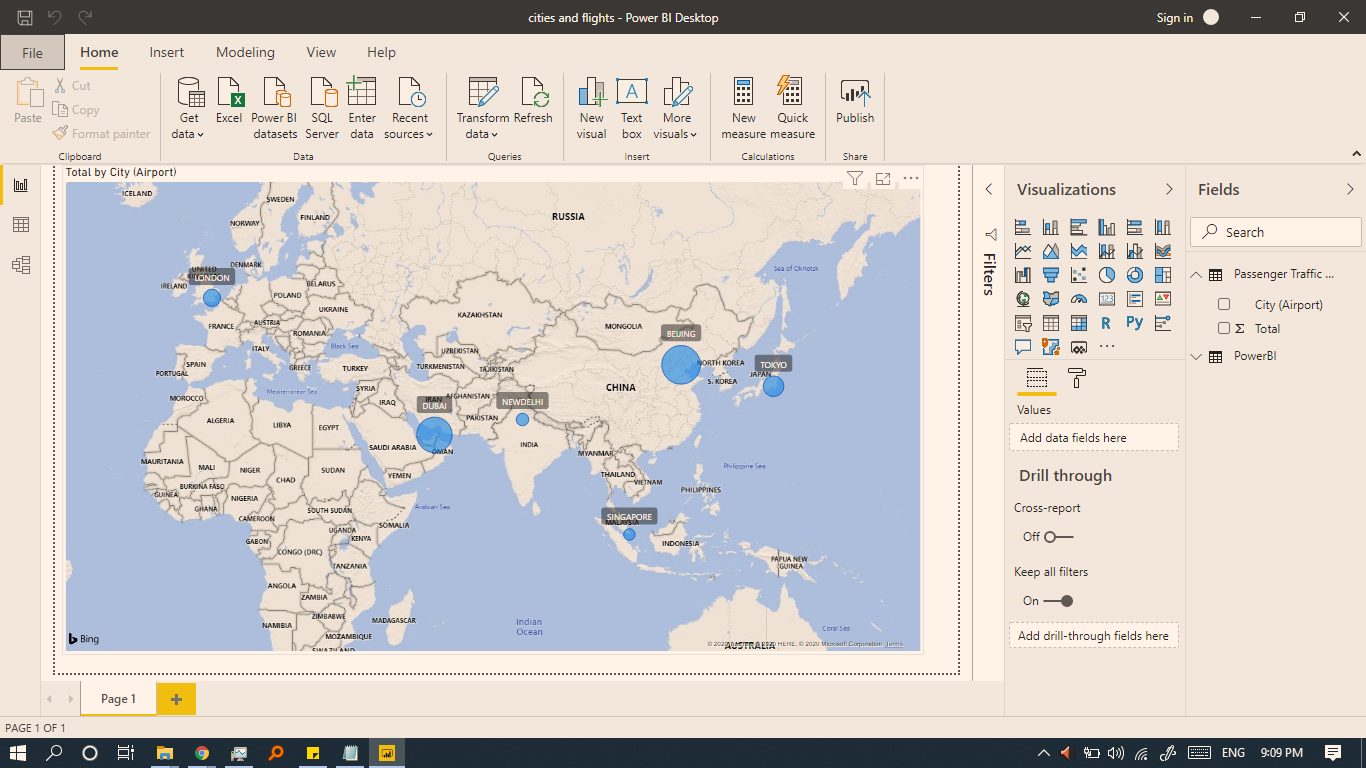

The page's visual inventory and layout, read from the dashboard file:
{"tool":"powerbi","page":{"name":"Page 1","canvas":[1280,720],"ordinal":0},"visuals":[{"type":"map","fields":{"Category":["Passenger Traffic Monthly Ranking.City (Airport)"],"Size":["Sum(Passenger Traffic Monthly Ranking.Total)"]},"box":[9.9,0,1243,708.7],"z":0}]}

Visuals, with their boxes on the page's 1280x720 design canvas (x1, y1, x2, y2). These are canvas units, not pixel positions in the 1366x768 screenshot, which may show the page scaled, cropped or inside an application window:
map - Passenger Traffic Monthly Ranking.City (Airport) x Sum(Passenger Traffic Monthly Ranking.Total): box(10, 0, 1253, 709)
